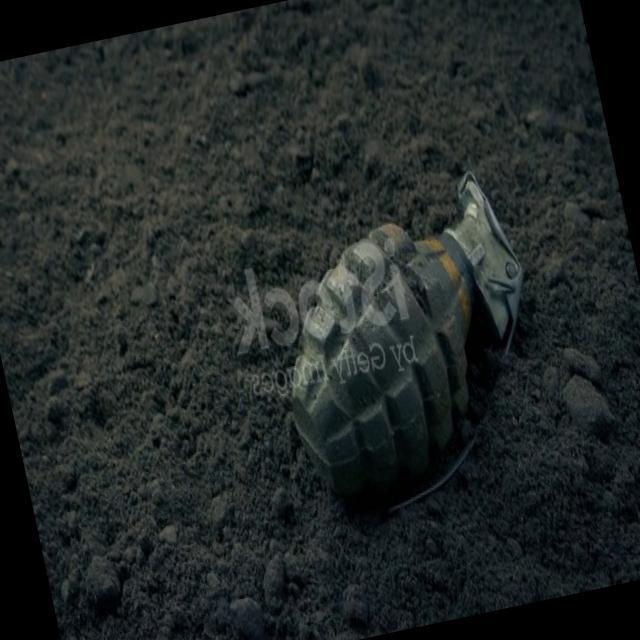grenade: (241, 160, 574, 530)
